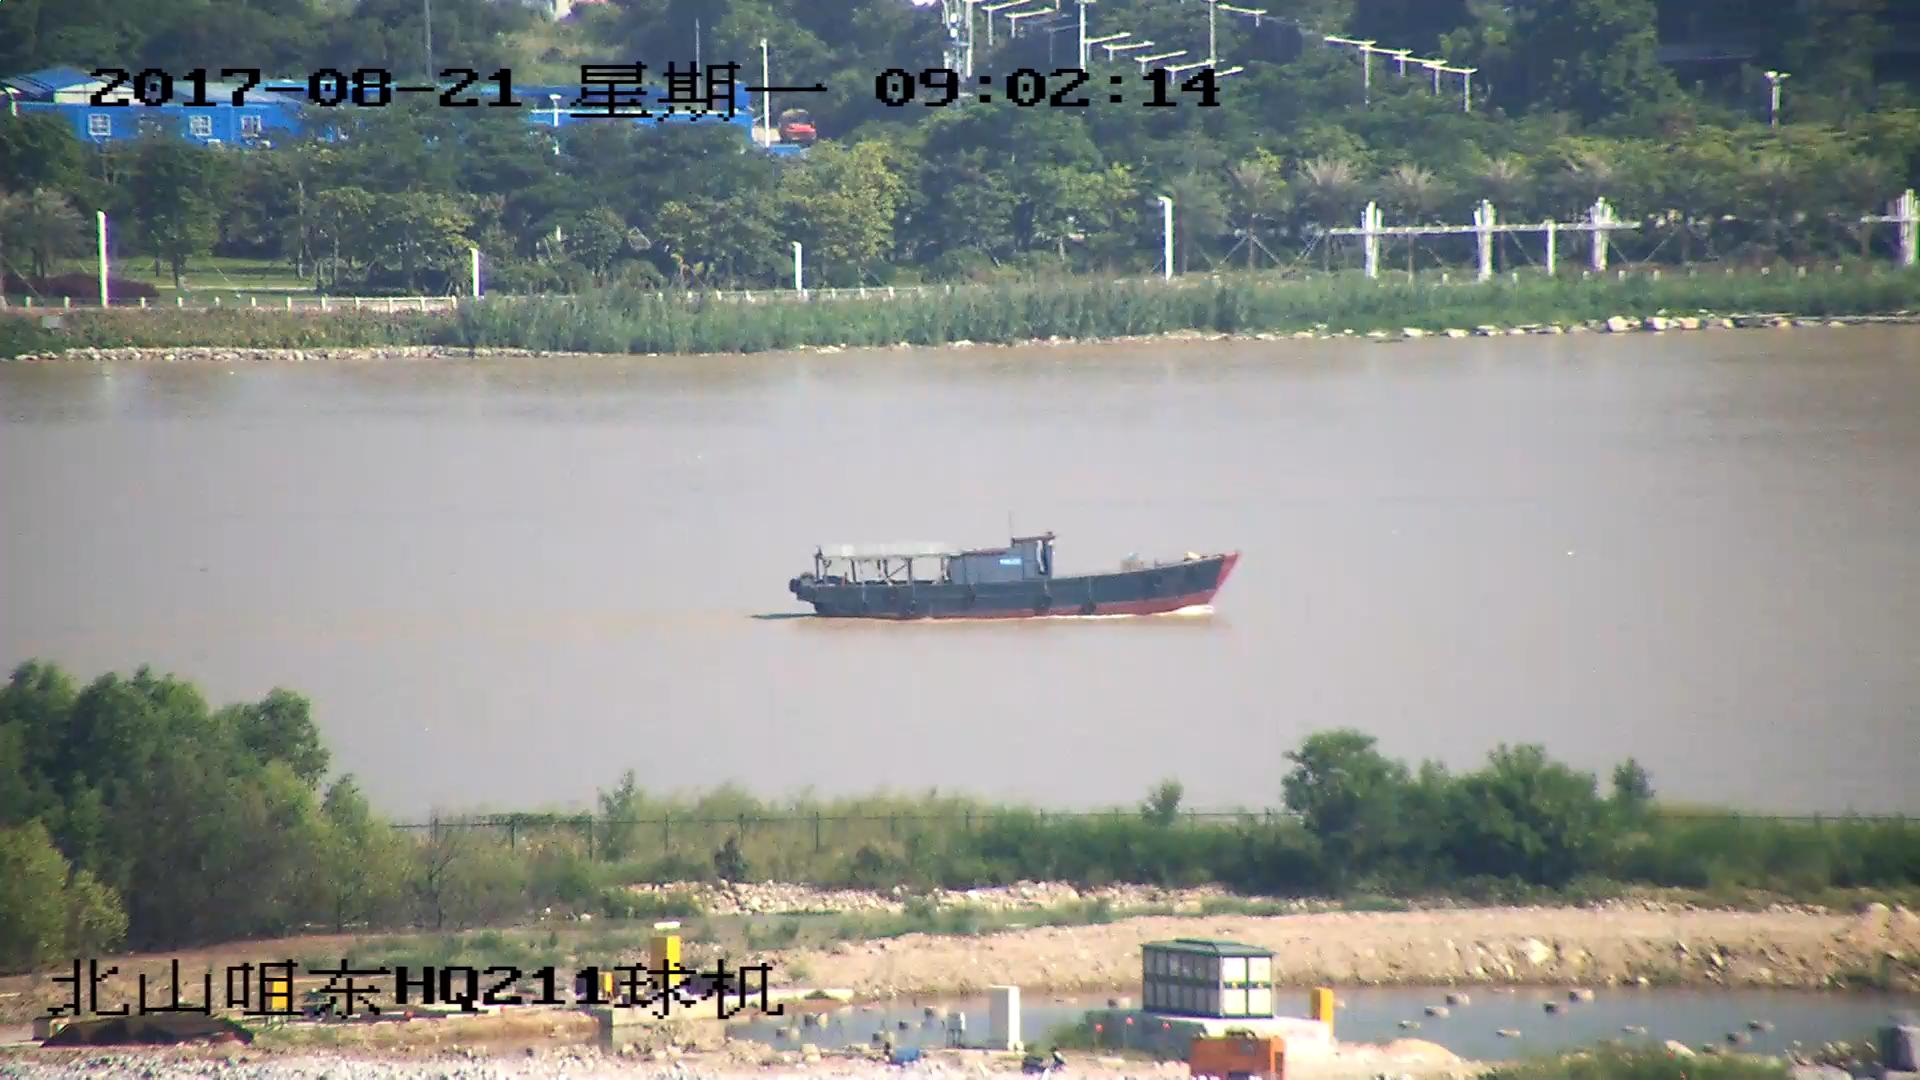fishing boat: (790, 541, 1240, 624)
